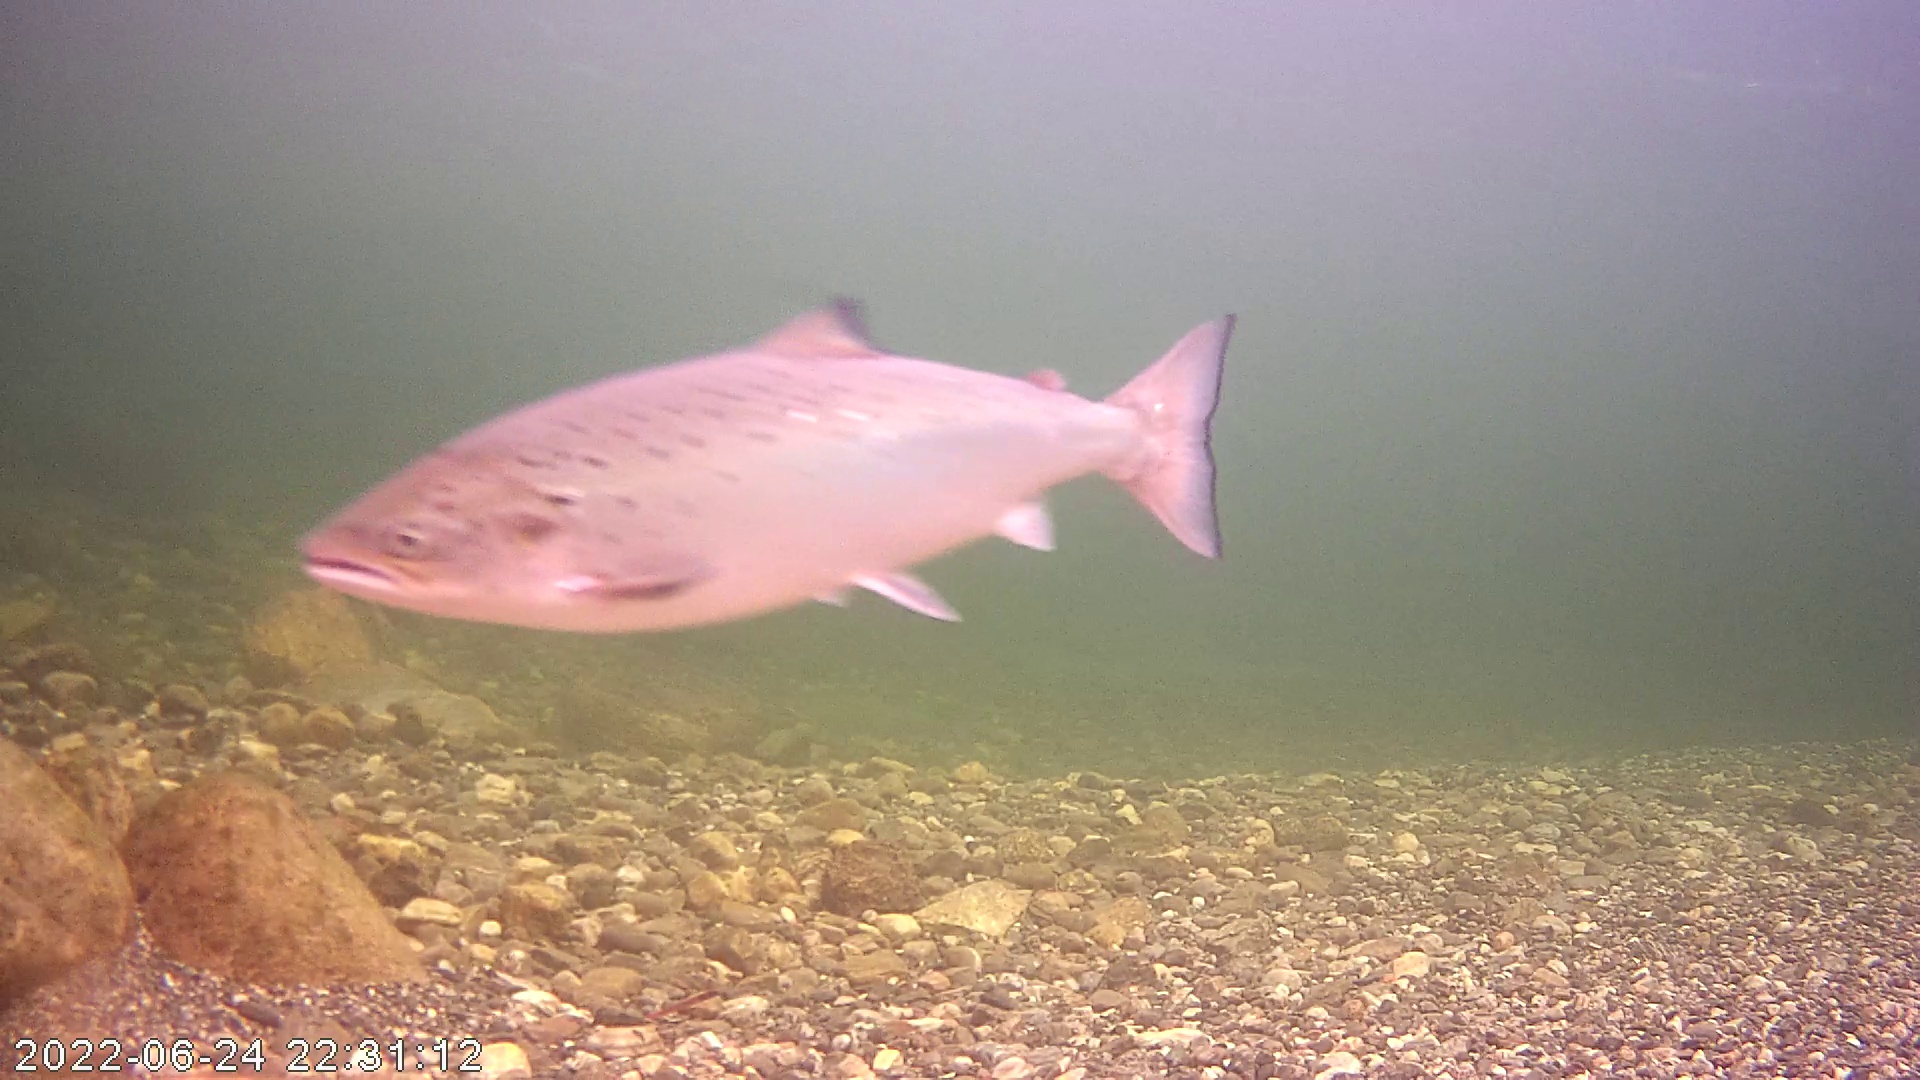salmon: (298, 295, 1242, 640)
